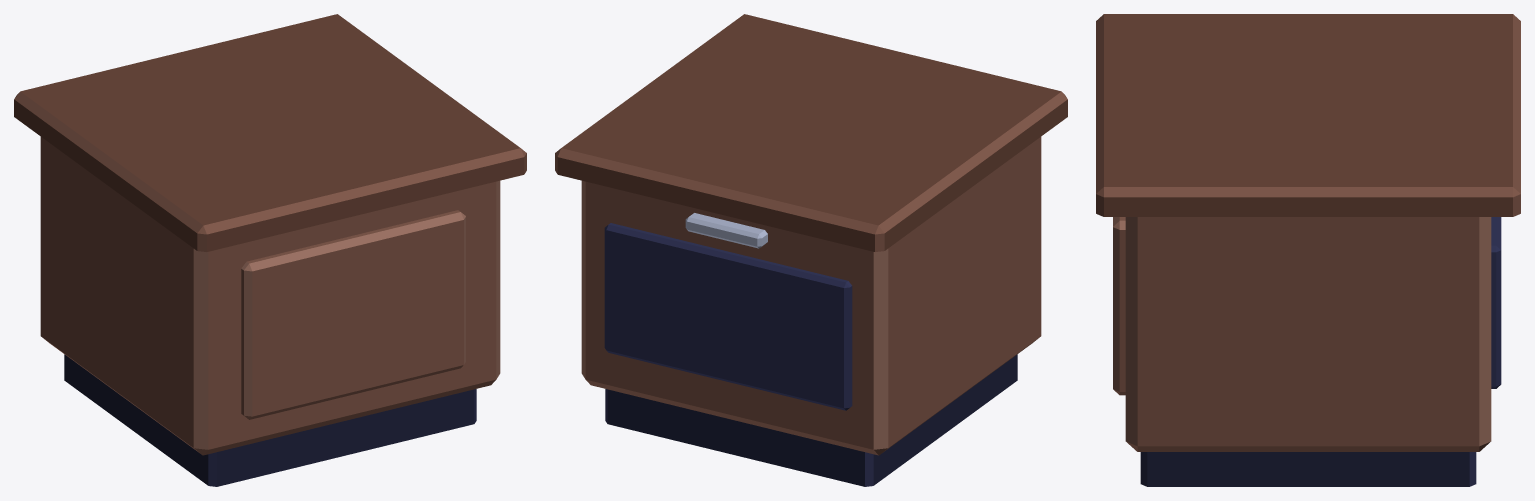
File: Counter_4x4.fbx
3 views of the same model, side by side, from view 1: azimuth 30°, elevation 25°; view 2: azimuth 150°, elevation 25°; view 3: azimuth 270°, elevation 25° (orthographic). The views are drawn at different scales.
Parts seen in each view (by area): view 1: Counter_4x4; view 2: Counter_4x4; view 3: Counter_4x4.
Boxes of the visible parts, x1=… form: Counter_4x4: x1=14, y1=14, x2=526, y2=486; Counter_4x4: x1=555, y1=14, x2=1067, y2=486; Counter_4x4: x1=1096, y1=14, x2=1520, y2=486.
Size of the model in its own units: 4.3 by 3.5 by 4.3.
Materials: 1 (1 with a texture image).
